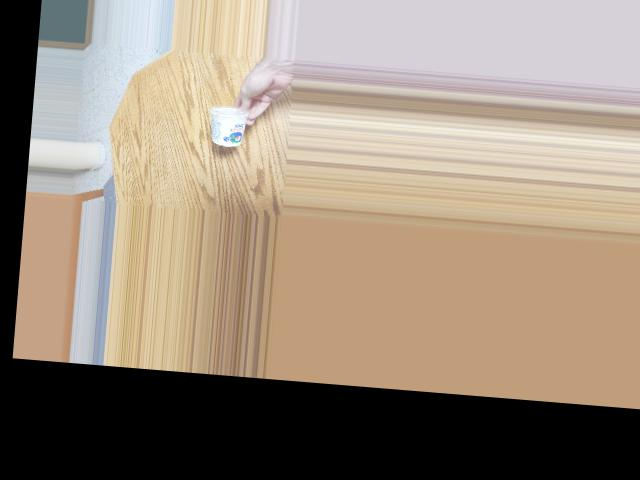cotage: (203, 97, 257, 148)
